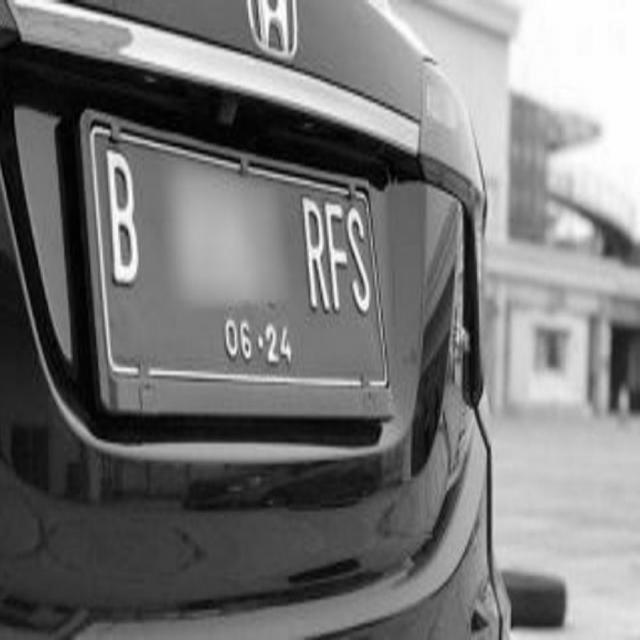B: (96, 143, 150, 294)
F: (323, 193, 349, 318)
R: (293, 193, 331, 310)
S: (346, 200, 376, 328)
